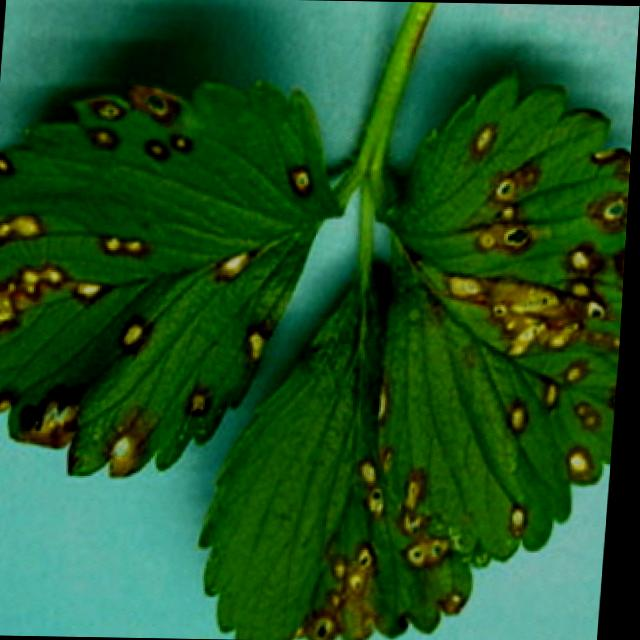Leaf Spot: (0, 77, 346, 480), (378, 64, 633, 564), (202, 264, 497, 640)
